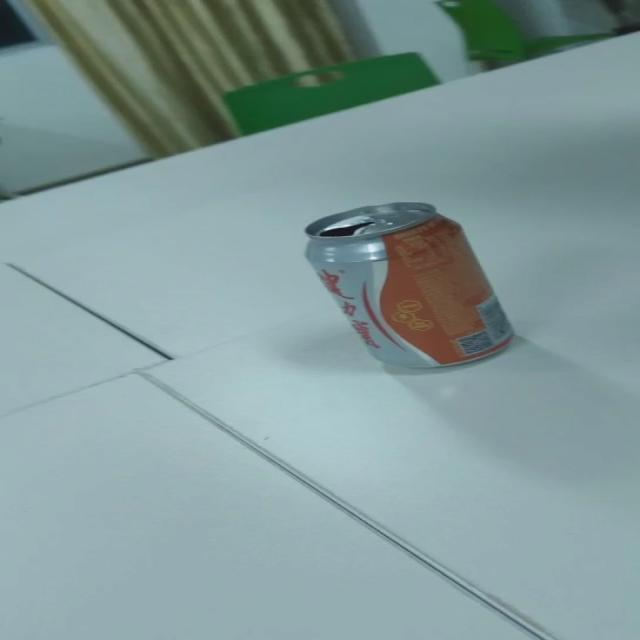can: (302, 202, 520, 371)
